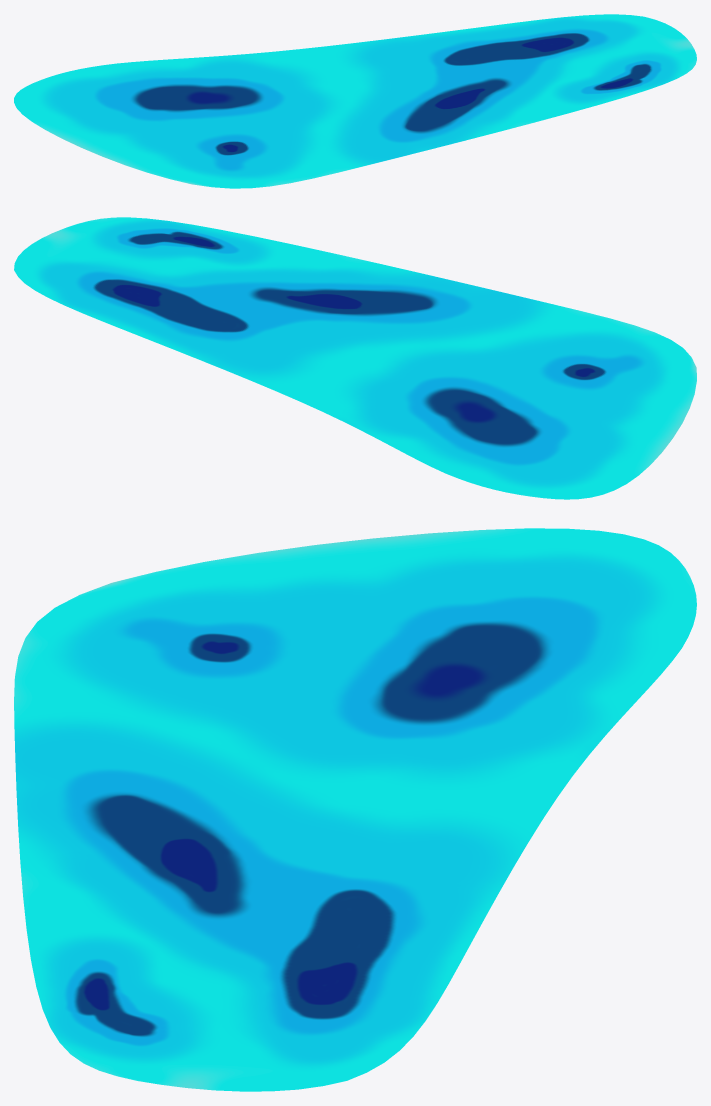
Rendered from Wet_Map.fbx.
3 views of the same model, one above another, from view 1: azimuth 30°, elevation 25°; view 2: azimuth 150°, elevation 25°; view 3: azimuth 270°, elevation 25° (orthographic). The views are drawn at different scales.
Visible parts, largest first — view 1: WetLandMap; view 2: WetLandMap; view 3: WetLandMap.
Part boxes in pixels (x1,y1,x2,y2): WetLandMap: [14, 14, 696, 188]; WetLandMap: [14, 217, 696, 499]; WetLandMap: [14, 528, 696, 1091].
Bounding box in the file's own units: 4369 × 0.000755 × 2239.
